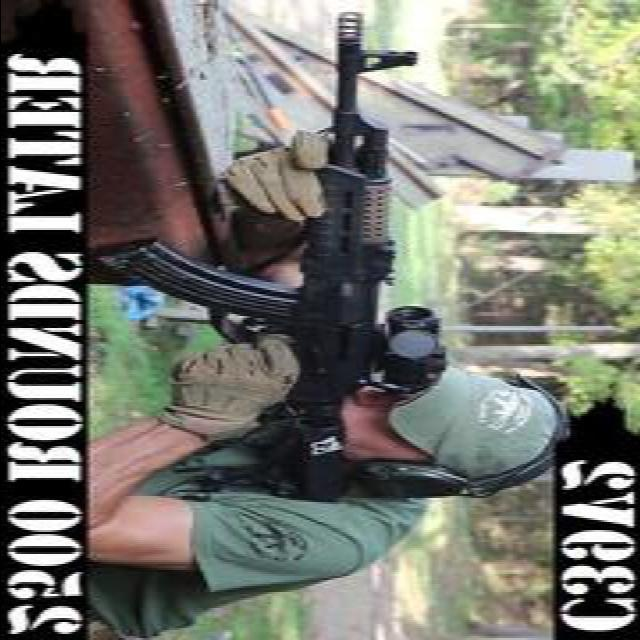rifle: (138, 9, 461, 509)
